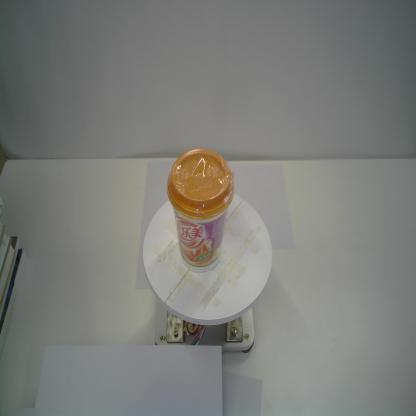Instant Drink: (165, 148, 234, 274)
